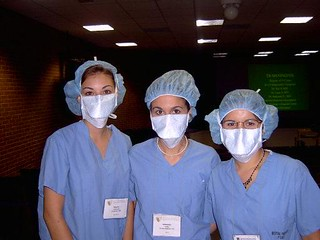homemade: (218, 127, 267, 164), (145, 113, 192, 147), (77, 94, 123, 128)
